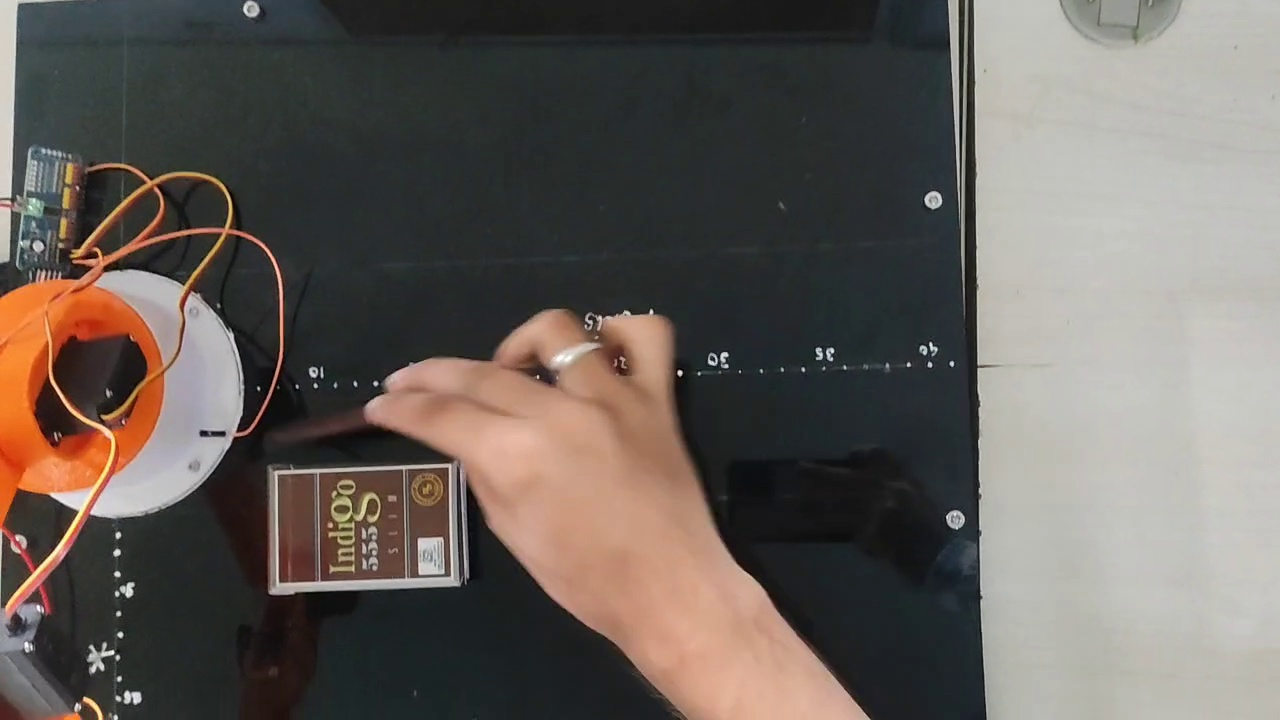BEX: (275, 464, 453, 581)
